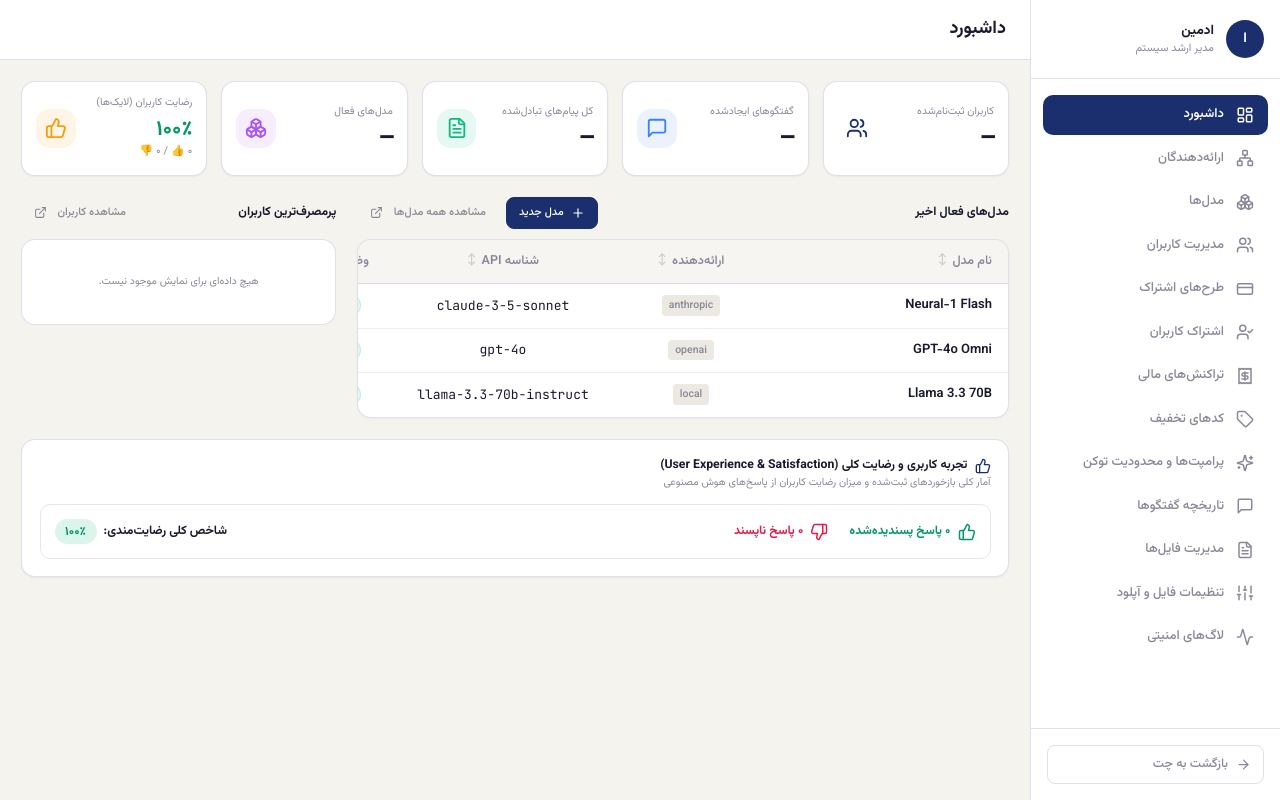
it: AdminModelsView.vue (Dashboard) › can toggle the new model registration form
This screenshot has width=1280, height=800.
Click the button "مدل جدید" at [552, 213], box [506,197,598,229]
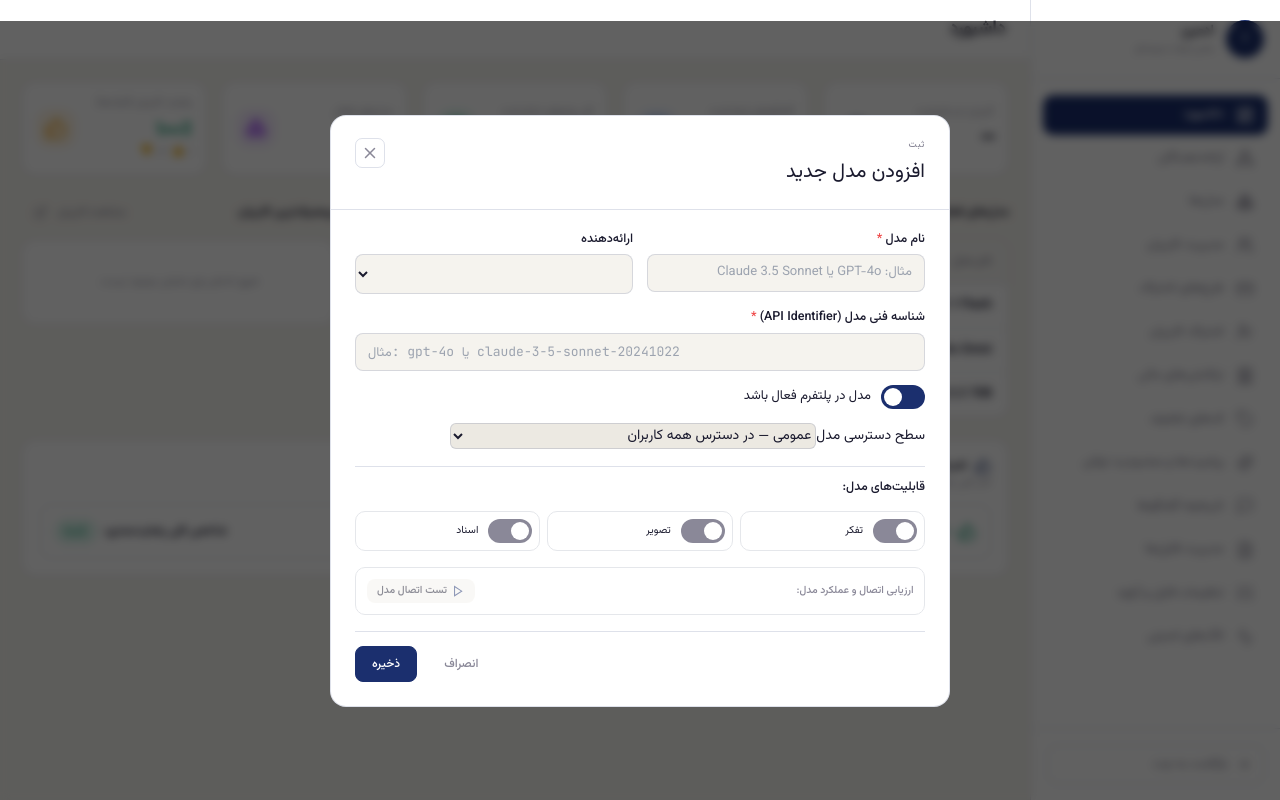
Expected: the form is shown, [355,230,925,682]
Expected: the field with id "modelName" is shown, [647,254,925,292]
